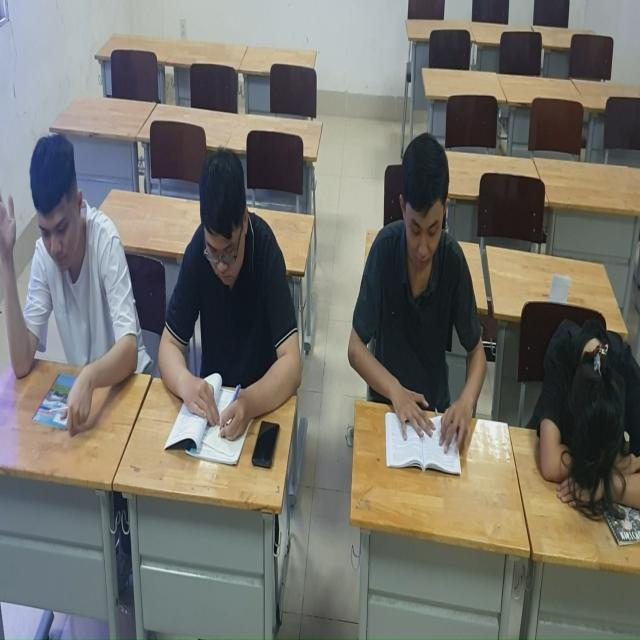raise_hand: (2, 137, 143, 451)
read: (347, 130, 489, 492), (155, 143, 305, 474)
sleep: (534, 311, 640, 519)
